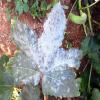Squash Powdery mildew leaf: (6, 2, 85, 96)
